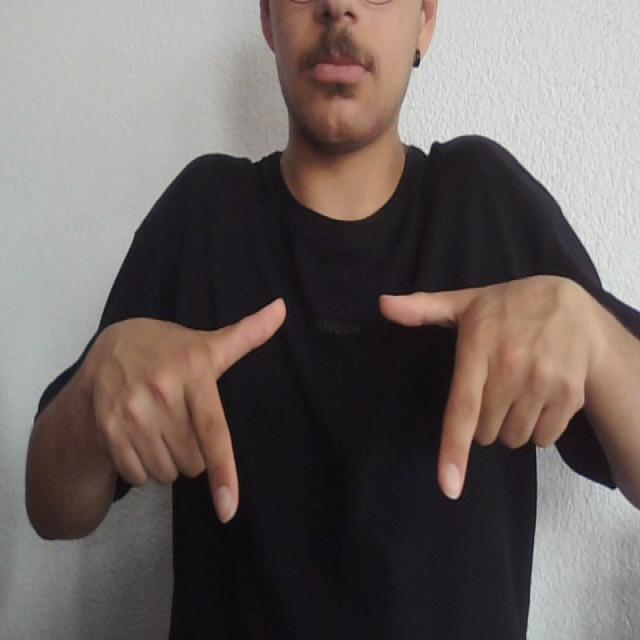Nerede: (178, 271, 527, 545)
